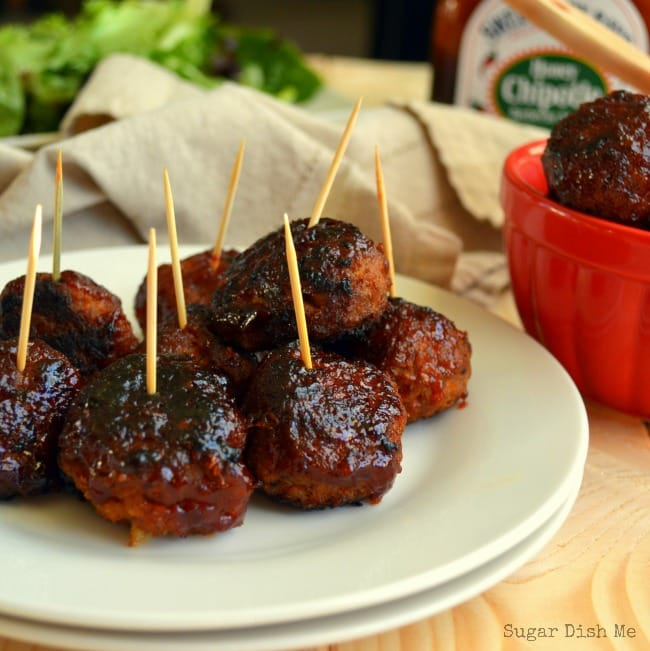meatballs: (87, 370, 244, 539), (253, 350, 396, 504), (218, 219, 389, 333), (371, 297, 475, 421), (550, 94, 650, 214), (14, 267, 140, 358), (1, 348, 80, 493)
